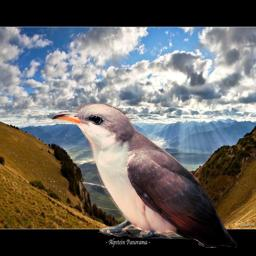Cuckoo: (51, 103, 238, 248)
